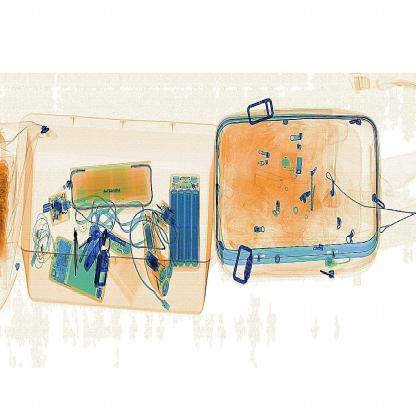knife: (68, 221, 87, 281)
